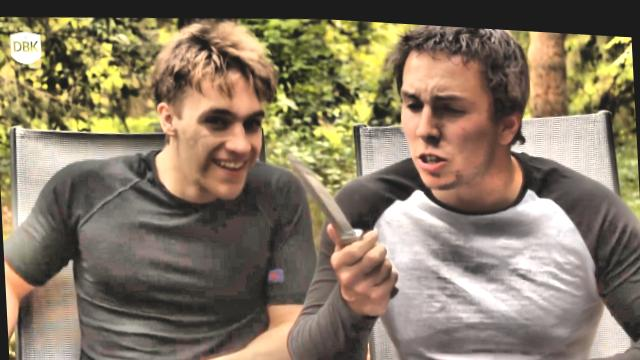knife: (278, 130, 396, 277)
